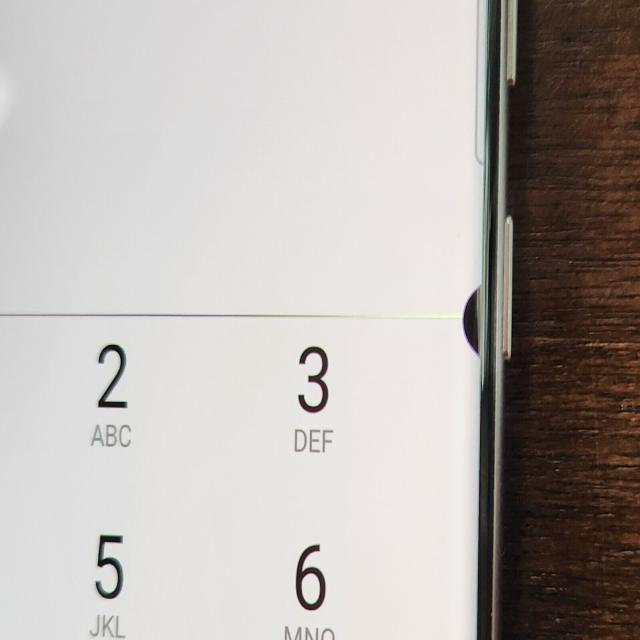dead pixel: (442, 266, 512, 372)
